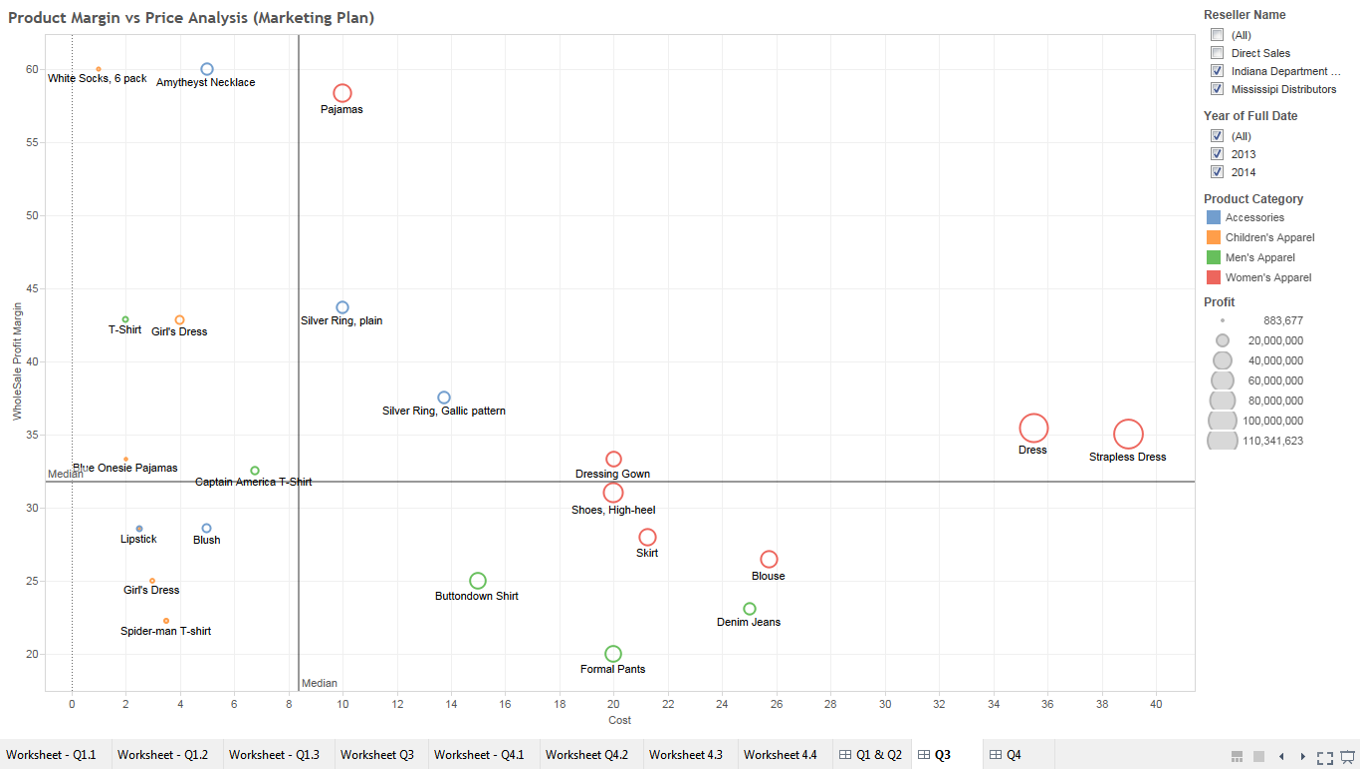

This screenshot's page, from the dashboard's own definition file:
{"tool":"tableau","page":{"name":"Dashboard 3","canvas":[1000,800],"ordinal":2},"visuals":[{"type":"worksheet","title":"Sheet 4","mark":"Shape","rows":["SaleAmount"],"cols":["ResellerName (dimReseller_new)","ProductCategory","ProductType"],"box":[0,0,420,800]},{"type":"worksheet","title":"Sheet 3","mark":"Automatic","rows":["SaleProfit"],"cols":["ProductCost"],"box":[420,0,420,800]},{"type":"filter","title":"Sheet 4","param":"[sqlserver.0nvo0270fe6ult11y5mdv1mf595d].[none:ProductCategory:nk]","box":[840,0,160,160]},{"type":"legend","title":"Sheet 4","param":"[sqlserver.0nvo0270fe6ult11y5mdv1mf595d].[none:ProductType:nk]","box":[840,160,160,230]}]}

Visuals, with their boxes on the page's 1000x800 design canvas (x1, y1, x2, y2). These are canvas units, not pixel positions in the 1360x769 screenshot, which may show the page scaled, cropped or inside an application window:
"Sheet 4" worksheet (Shape marks): bbox(0, 0, 420, 800)
"Sheet 3" worksheet: bbox(420, 0, 840, 800)
"Sheet 4" filter: bbox(840, 0, 1000, 160)
"Sheet 4" legend: bbox(840, 160, 1000, 390)
